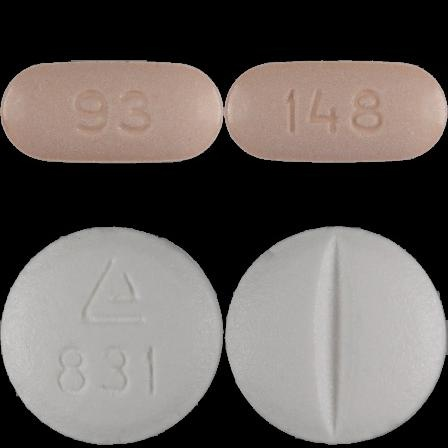55700-361: (0, 0, 224, 224)
